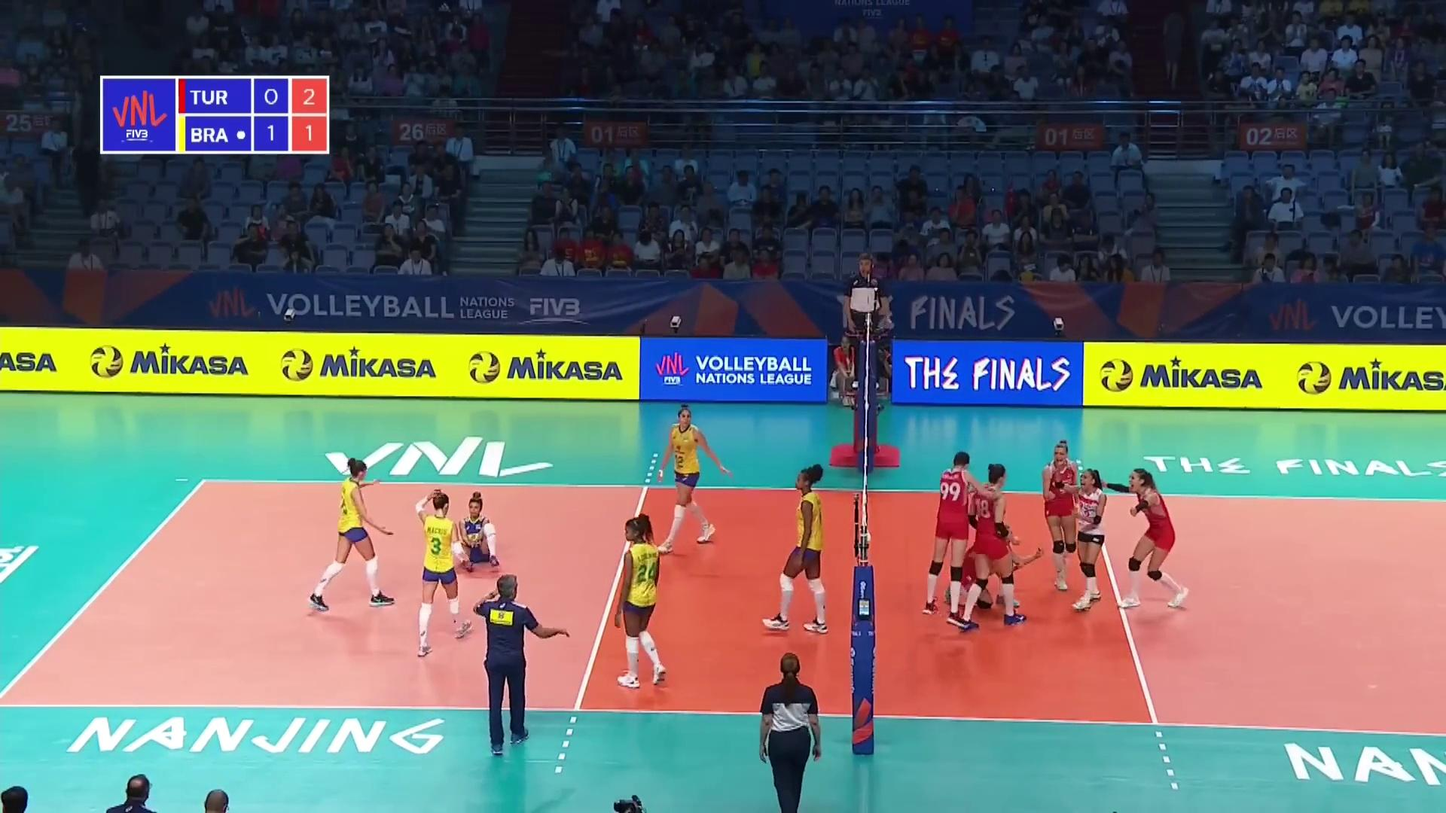player: (308, 459, 394, 612), (1104, 469, 1192, 608), (959, 465, 1025, 633), (655, 408, 731, 551), (927, 452, 989, 616), (414, 490, 473, 656), (767, 464, 825, 632), (614, 514, 665, 690), (1057, 465, 1108, 616), (947, 525, 1044, 604), (1040, 441, 1079, 592), (452, 492, 501, 571)
refree: (758, 656, 825, 813), (844, 255, 888, 388)
